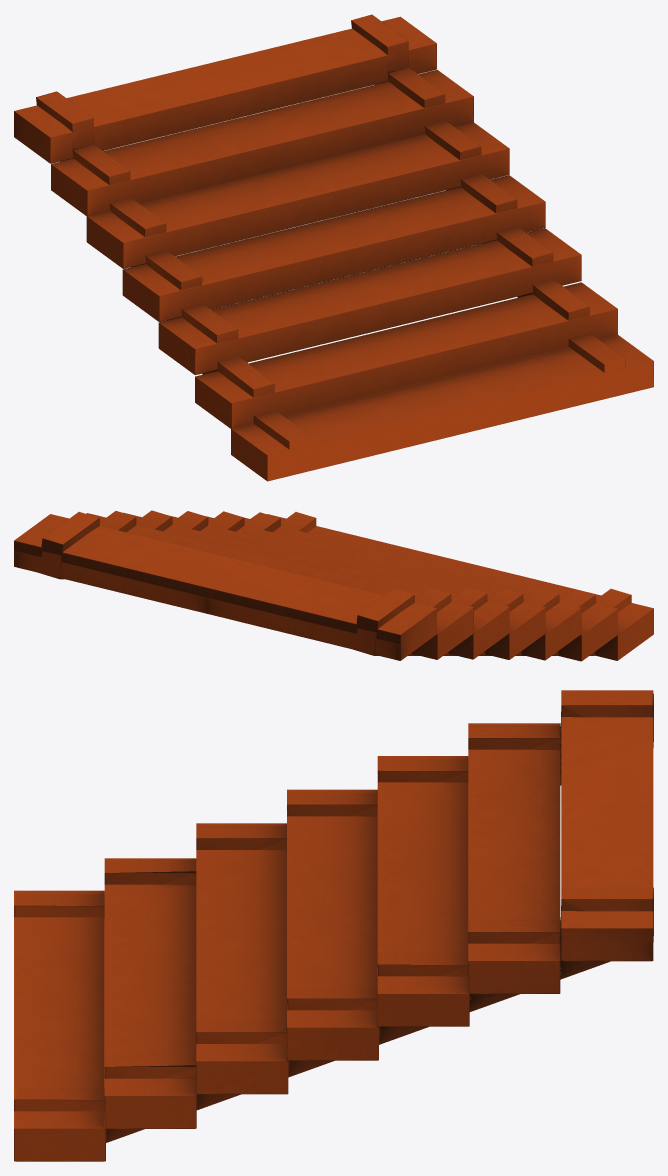
File: temple stair.FBX
3 renders of one model, top to bottom at view 1: azimuth 30°, elevation 25°; view 2: azimuth 150°, elevation 25°; view 3: azimuth 270°, elevation 25°, orthographic. The views are drawn at different scales.
Visible parts, largest first — view 1: Line03; view 2: Line03; view 3: Line03.
Part boxes in pixels (<box>): Line03: <box>14,14,653,481</box>; Line03: <box>14,510,653,661</box>; Line03: <box>14,690,653,1161</box>.
Size of the model in its own units: 144 by 69.16 by 164.
Materials: 1 (1 with a texture image).
